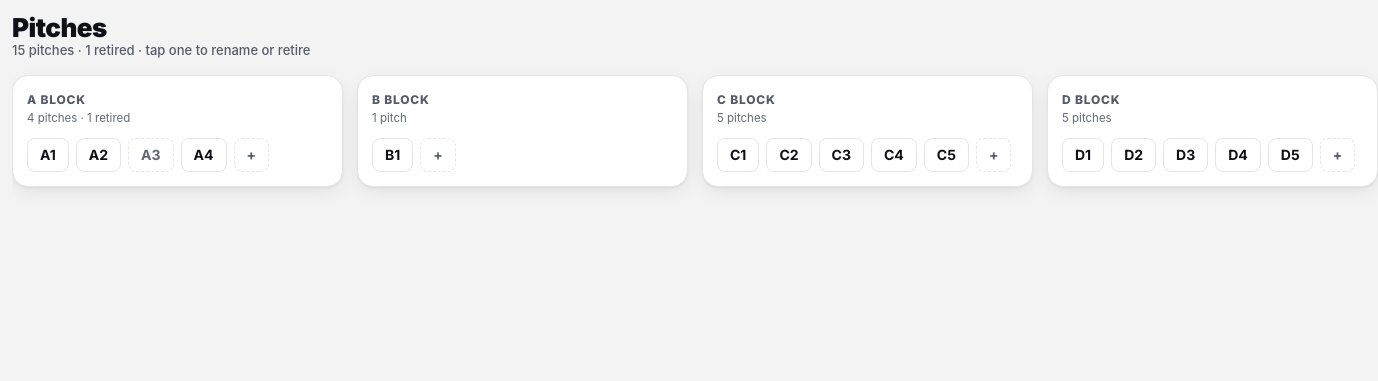
Scenario: the screen › retires through setPitchActive, and offers to bring a retired one back
The width and height of the screenshot is (1378, 381).
Click the button "A1" at {"x": 48, "y": 155}, box [27, 138, 69, 172]
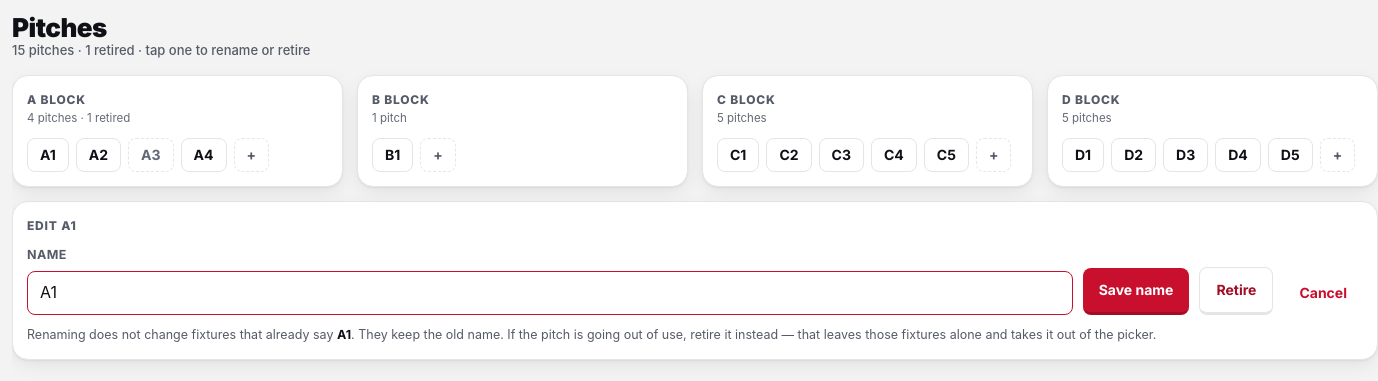
Click the button "Retire" at {"x": 1236, "y": 291}, box [1199, 267, 1273, 315]
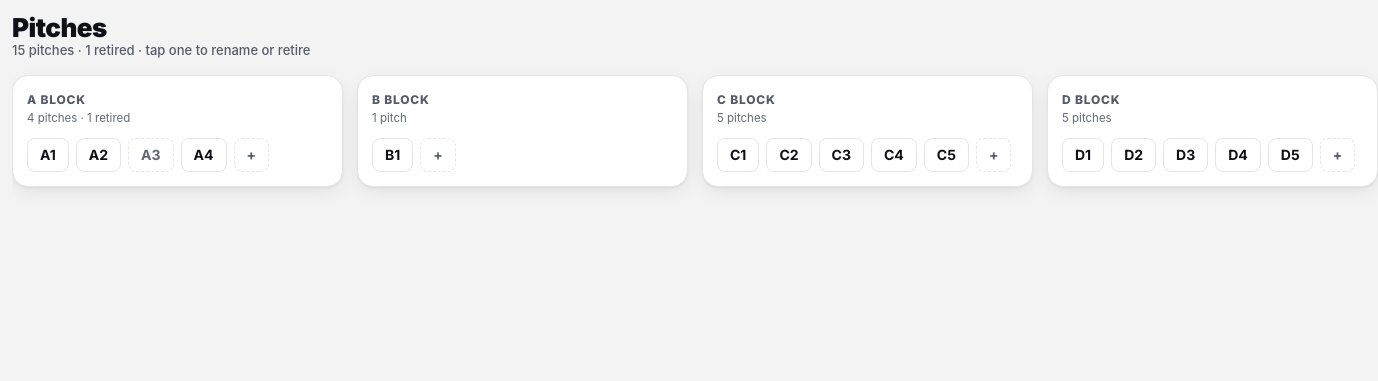
Click the button named "A3, retired" at {"x": 151, "y": 155}, box [128, 138, 174, 172]
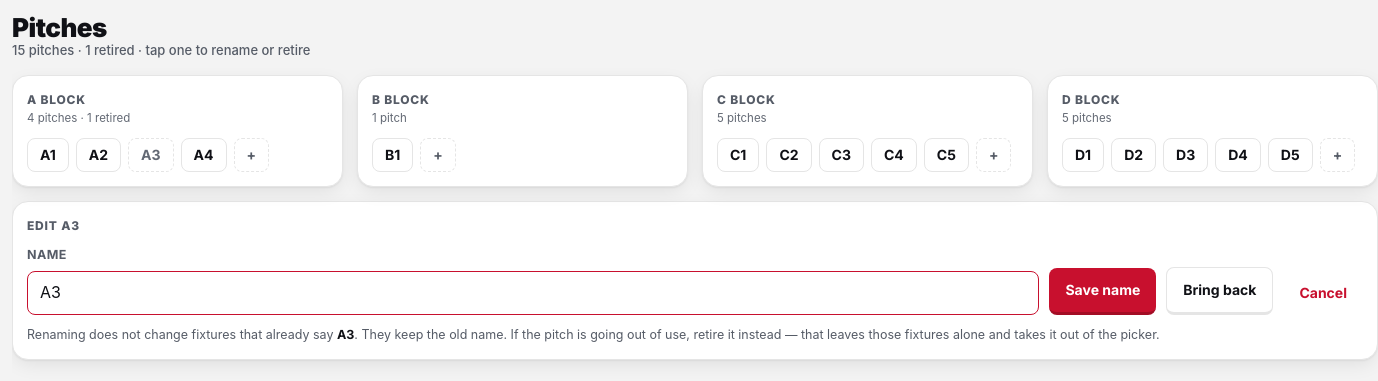
Now the button "Bring back" is shown, box [1166, 267, 1274, 315]
